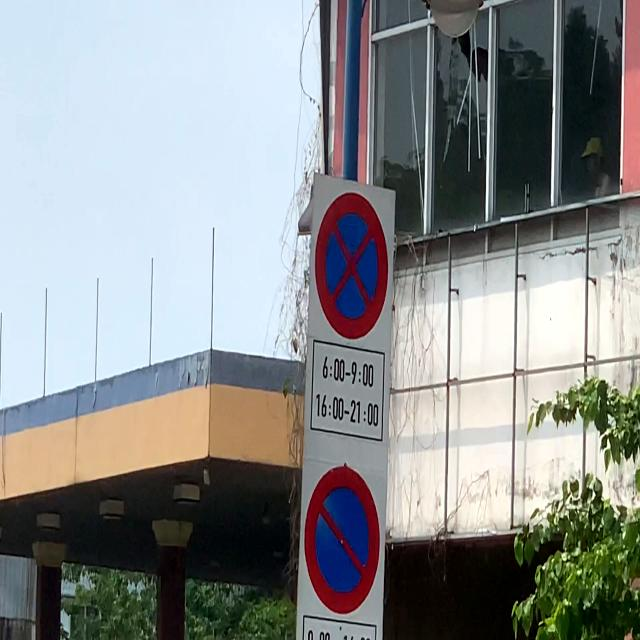P.130: (314, 192, 389, 341)
P.131a: (304, 466, 382, 615)
